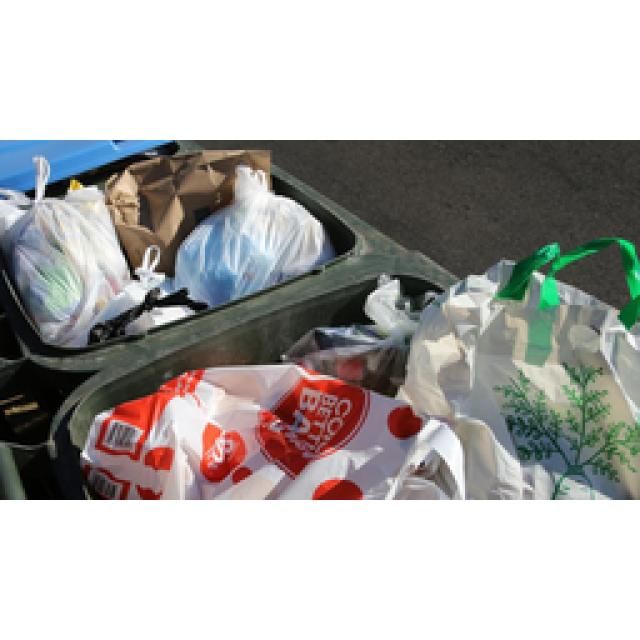plastic: (80, 245, 638, 498), (0, 150, 330, 345)
